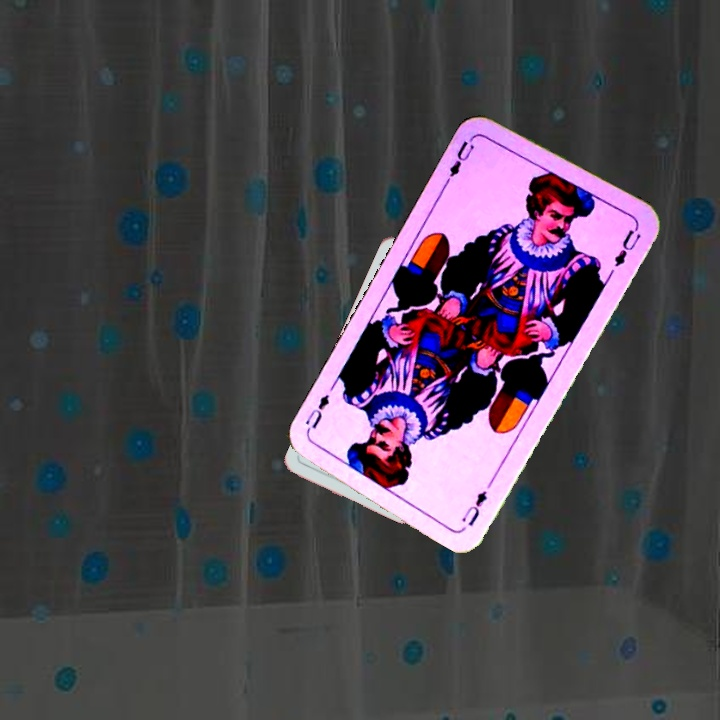EU: (441, 132, 482, 185), (457, 486, 490, 529)
